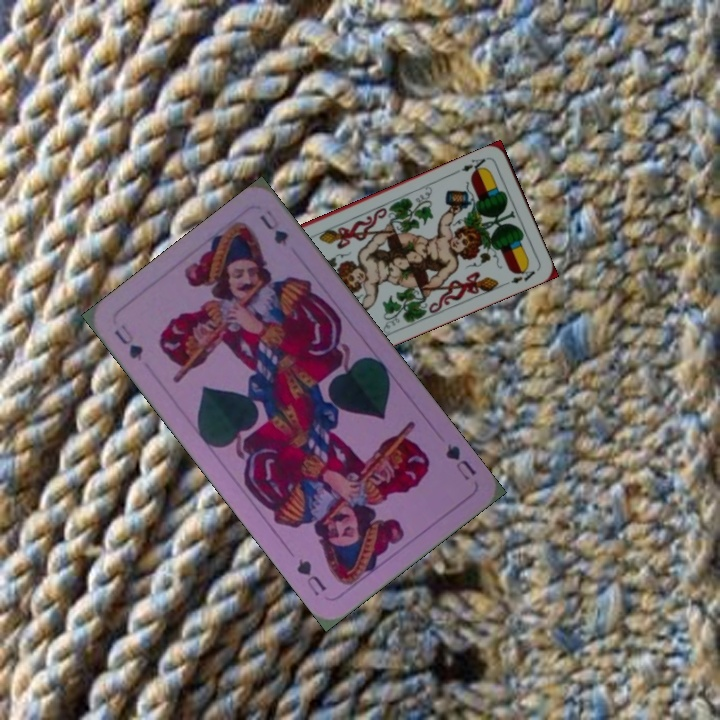EA: (457, 153, 491, 177)
GU: (441, 439, 480, 483), (109, 320, 146, 364)
